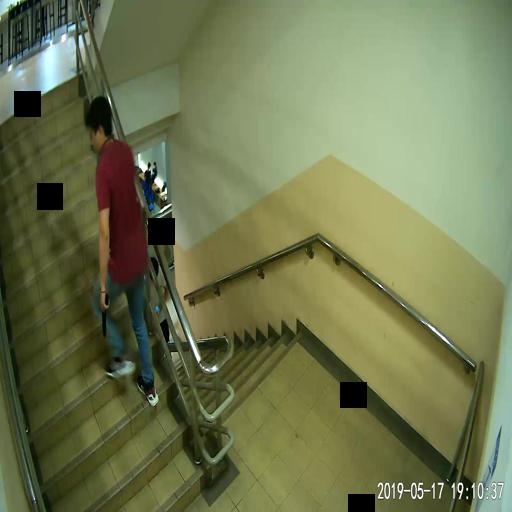Handgun: (99, 291, 108, 335)
